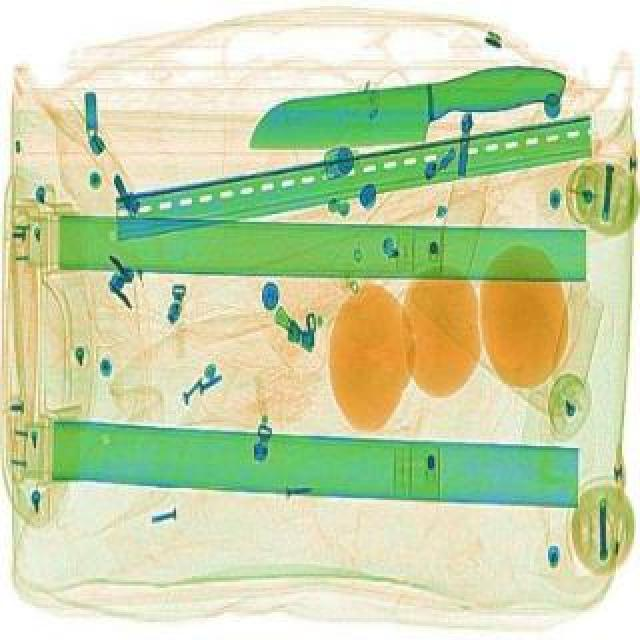knife: (244, 60, 574, 172)
